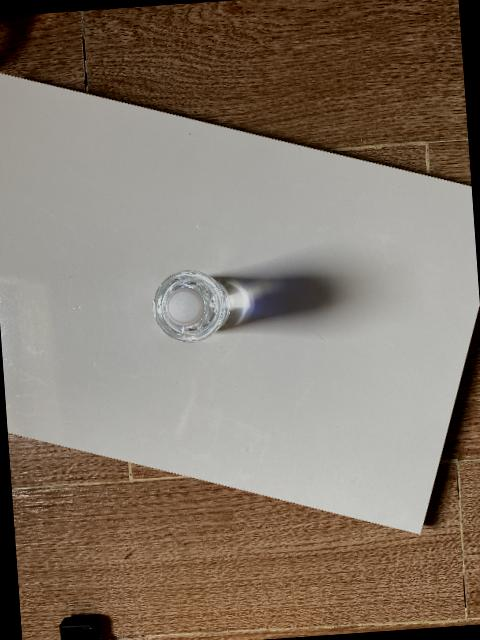aquafina: (152, 270, 230, 343)
